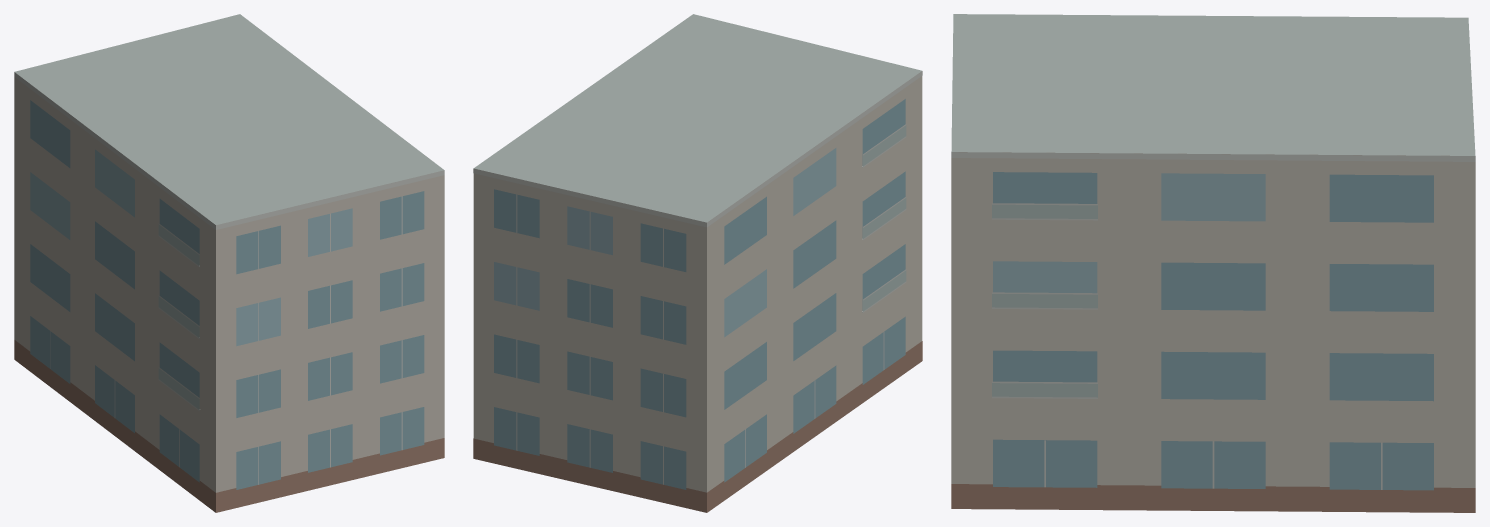
Rendered from survey-upis-32912902.glb.
3 renders of one model, left to right at view 1: azimuth 30°, elevation 25°; view 2: azimuth 150°, elevation 25°; view 3: azimuth 270°, elevation 25°, orthographic. The views are drawn at different scales.
Visible parts, largest first — view 1: survey-upis-32912902.tmp; view 2: survey-upis-32912902.tmp; view 3: survey-upis-32912902.tmp.
Boxes of the visible parts, <box> form: survey-upis-32912902.tmp: <box>14,14,444,512</box>; survey-upis-32912902.tmp: <box>473,14,922,512</box>; survey-upis-32912902.tmp: <box>951,14,1475,512</box>.
Bounding box in the file's own units: 12.39 × 14.5 × 19.31.
